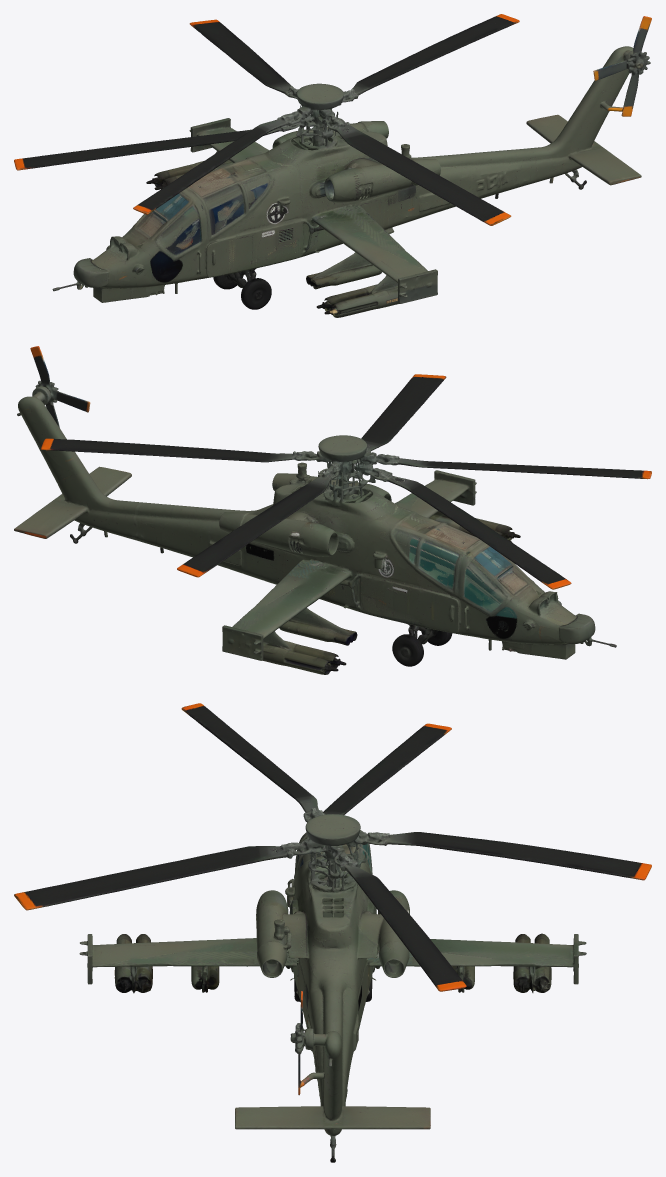
Rendered from apache_showcase_meshy.glb.
3 renders of one model, top to bottom at view 1: azimuth 30°, elevation 25°; view 2: azimuth 150°, elevation 25°; view 3: azimuth 270°, elevation 25°, orthographic. The views are drawn at different scales.
Bounding box in the file's own units: 1.89 × 0.6091 × 1.52.
Materials: 1 (1 with a texture image).
